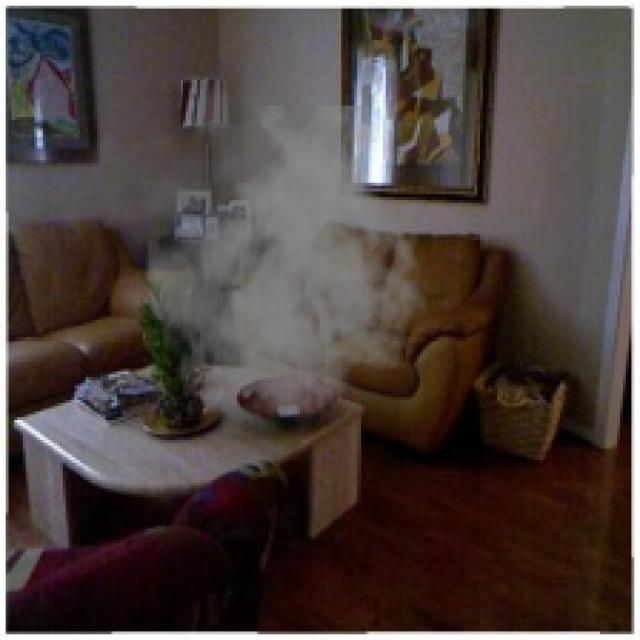smoke: (46, 60, 428, 443)
